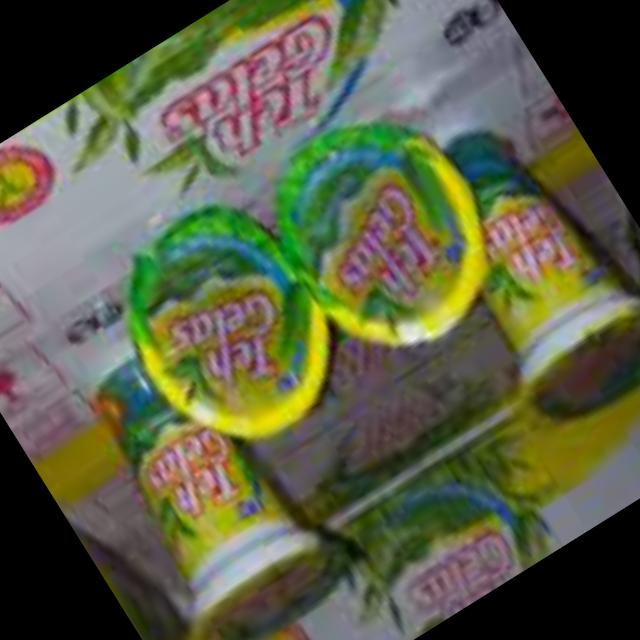GelasPlastik: (44, 321, 355, 640), (391, 89, 640, 450), (251, 90, 535, 390), (93, 188, 370, 484)
